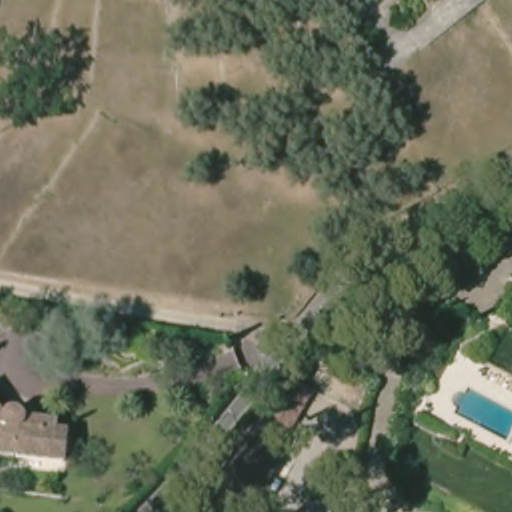pool: (449, 380, 512, 443)
